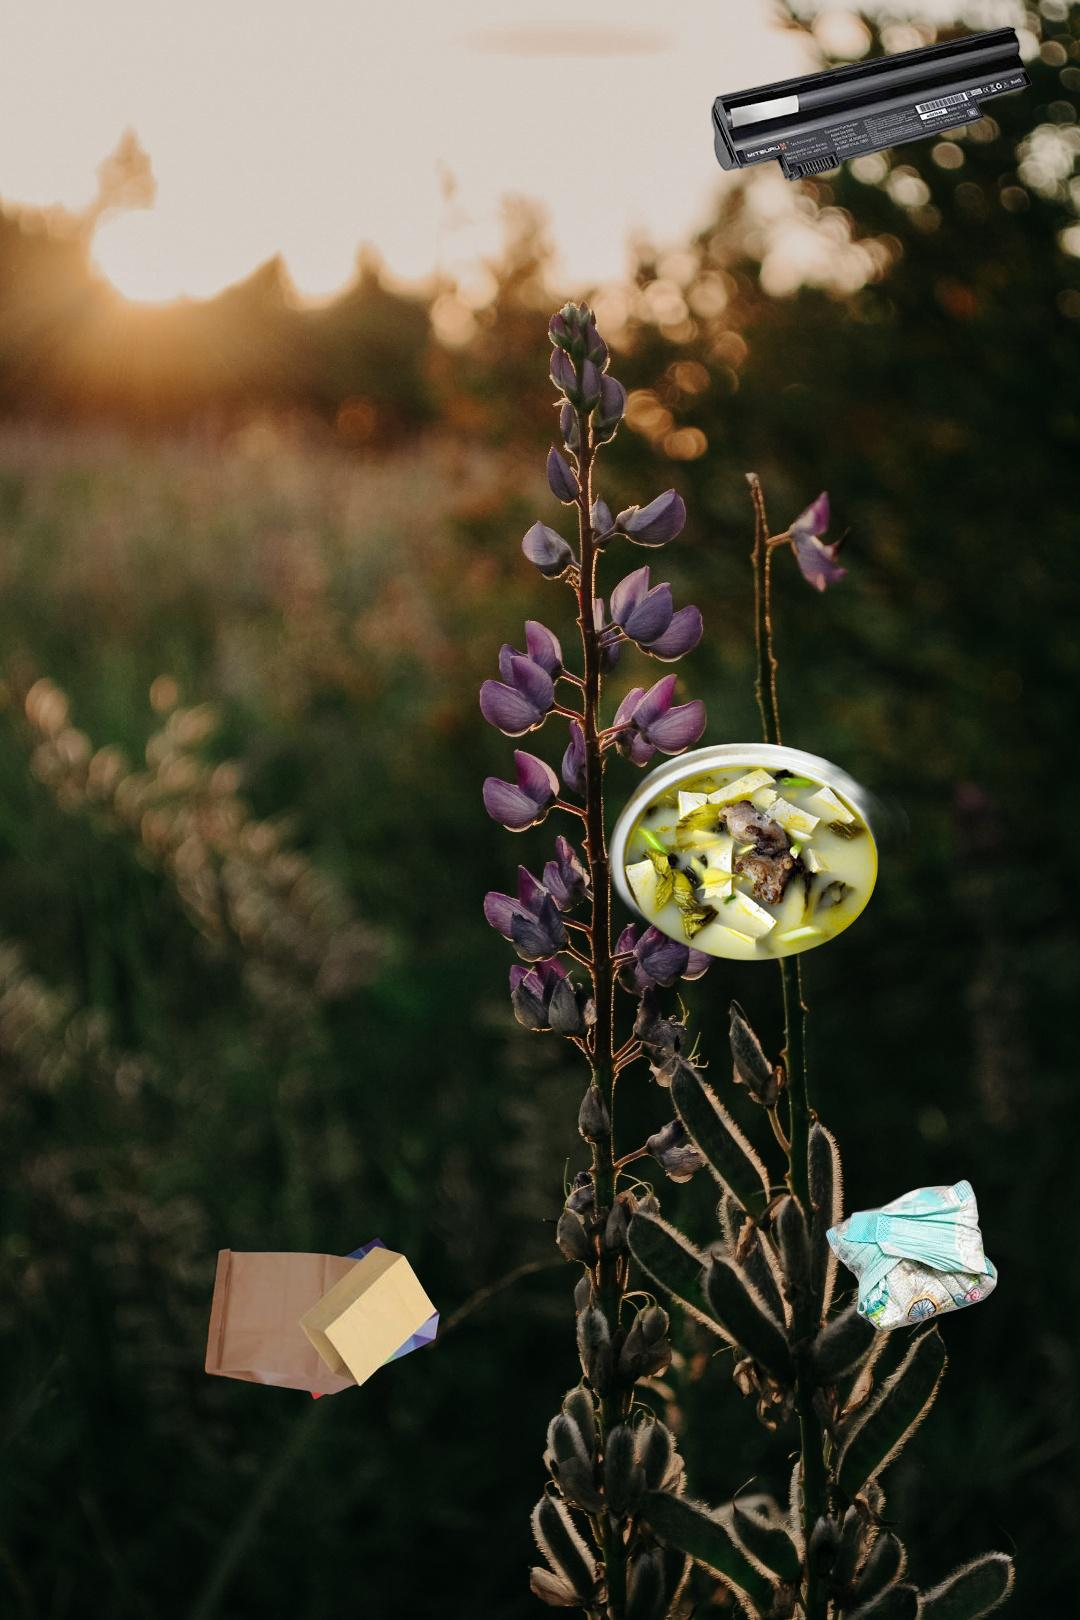battery: (711, 27, 1033, 182)
biological: (600, 740, 910, 978)
metal-cans: (888, 1364, 1080, 1620)
paper-bag: (201, 1234, 444, 1402)
trash: (823, 1176, 1000, 1334)
